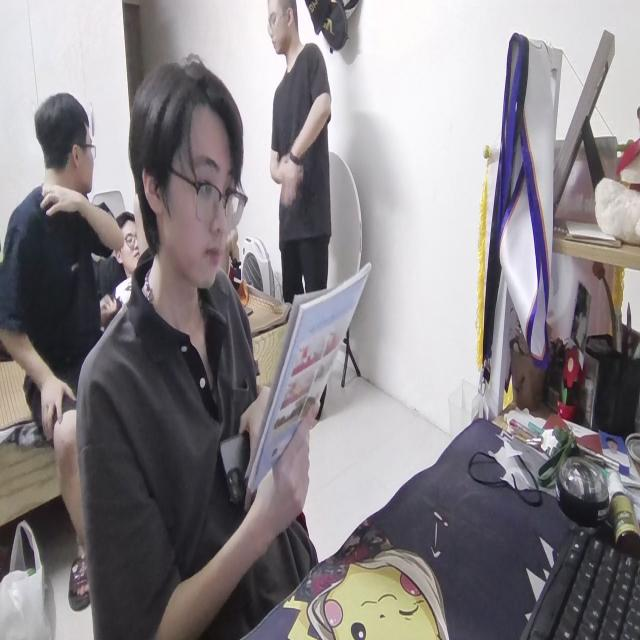book: (250, 255, 373, 500)
extra_person: (6, 91, 112, 492), (264, 0, 344, 337)
student: (74, 54, 315, 636)
